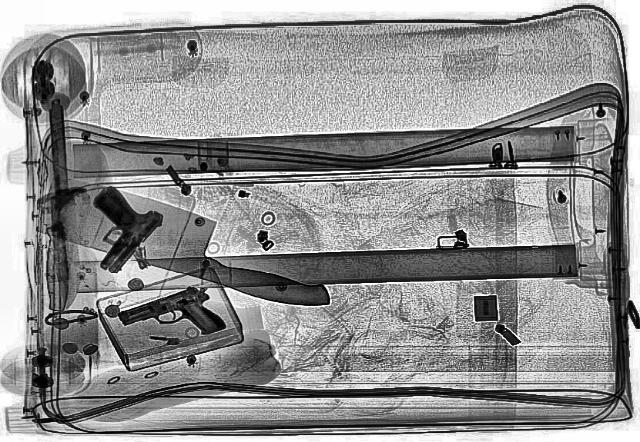Gun: (50, 185, 172, 275), (112, 284, 234, 352)
Knife: (17, 172, 359, 316), (38, 97, 78, 303)
